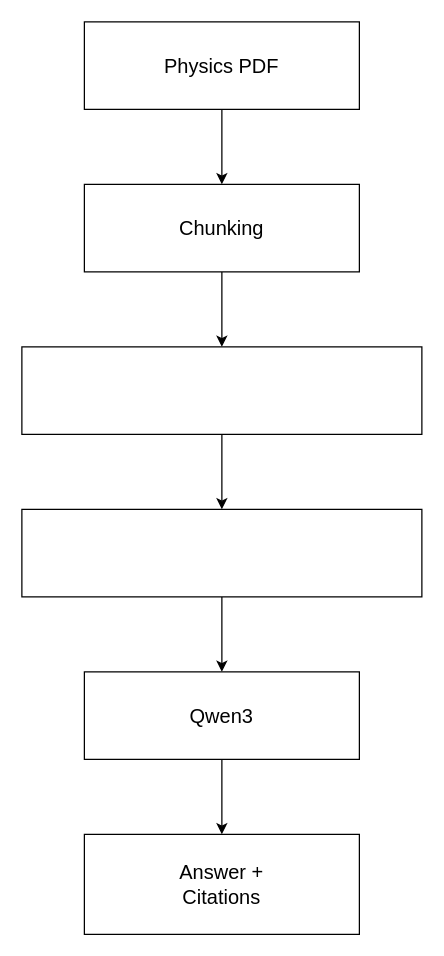
Image size: 444x956. Some labels were removed from this diagram. Each missing label, with the box of its shape:
Chroma | BM25 | Neo4j: (21, 346, 422, 434)
Hybrid Retrieval: (21, 508, 422, 597)
